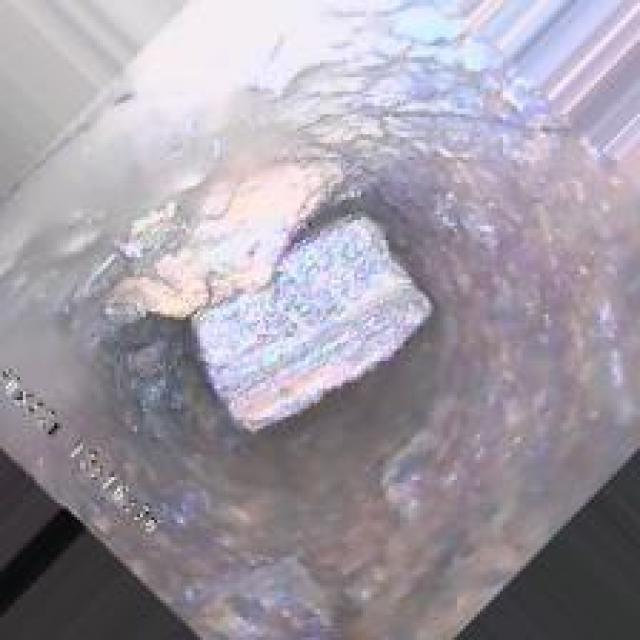stone: (186, 200, 446, 434)
